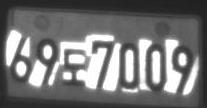0: (117, 42, 141, 89), (145, 43, 168, 91)
6: (9, 35, 32, 82)
7: (90, 39, 115, 90)
9: (171, 45, 194, 95), (35, 38, 58, 84)
도: (62, 48, 87, 87)
